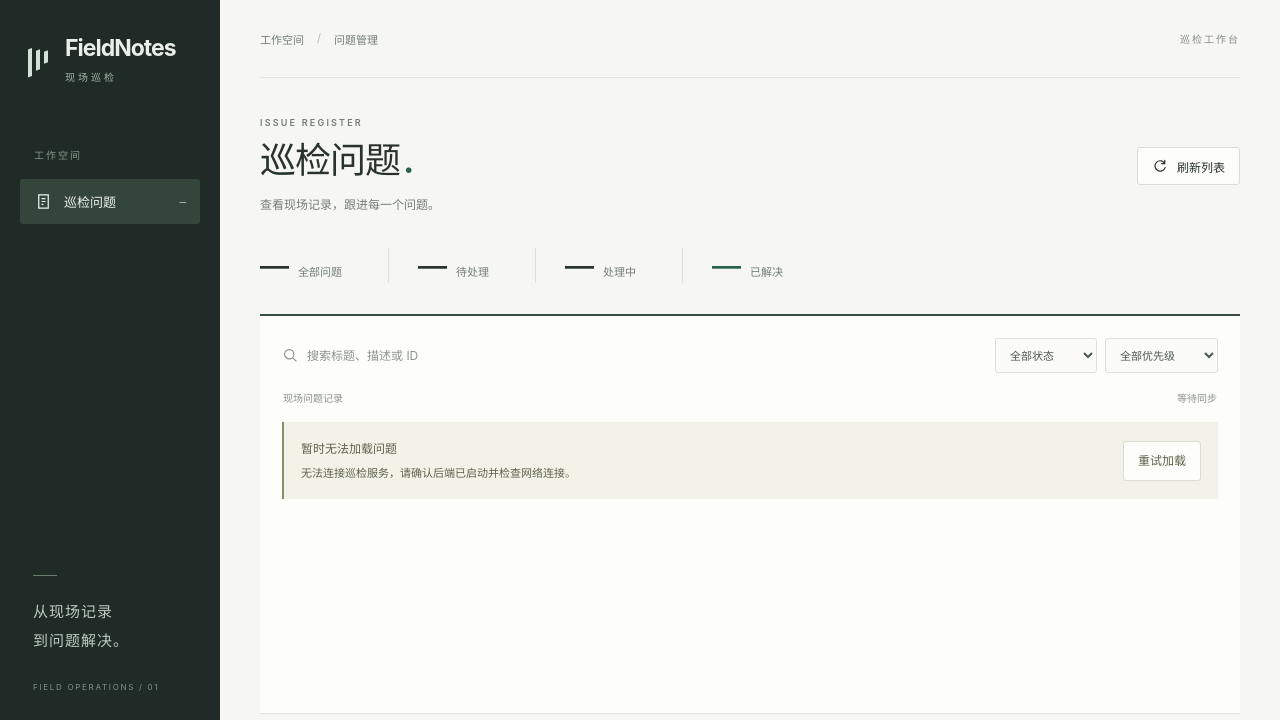
巡检工作台 › shows service failure and retries successfully
expect the message shows "无法连接巡检服务": met, box [301,466,576,480]
Click the button "重试加载": (1162, 461) [1123,441,1201,481]
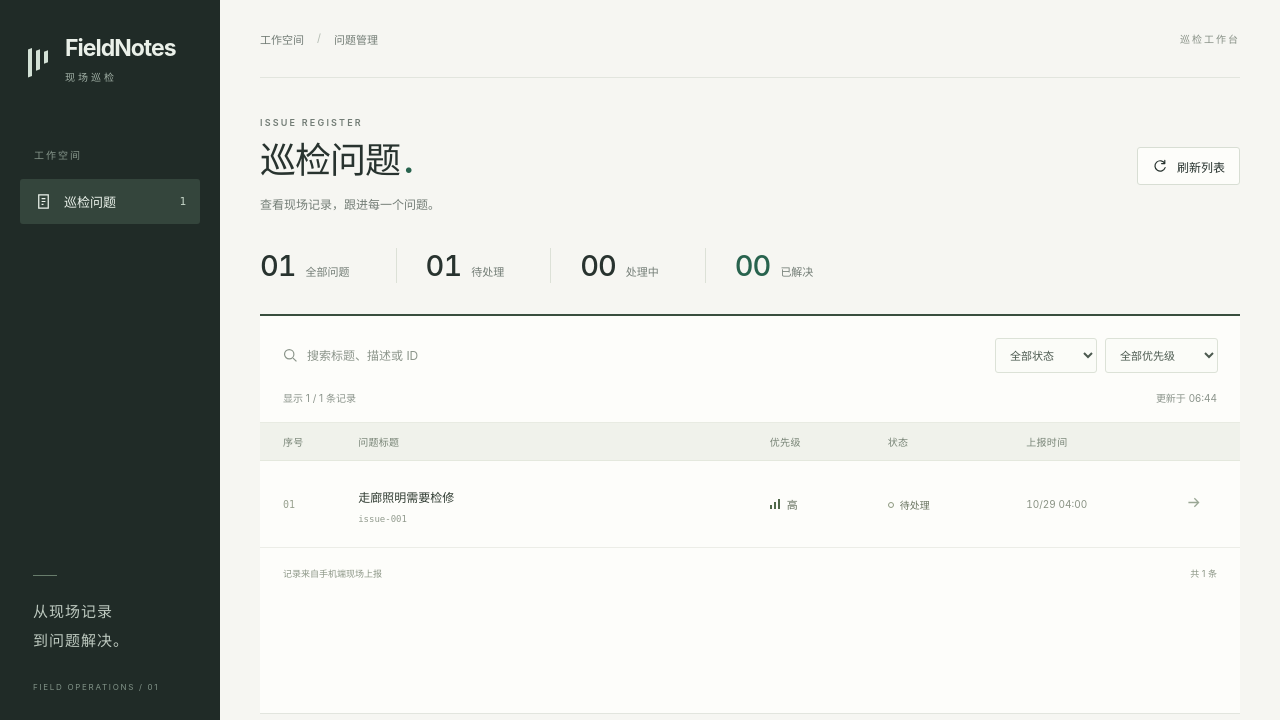
expect the button with aria-label "查看问题：走廊照明需要检修" is shown: met, box [358,484,454,512]
